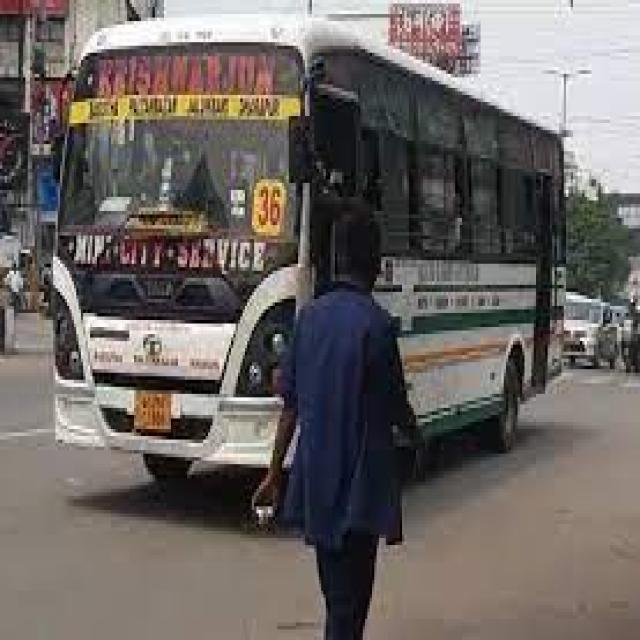Bike: (622, 290, 637, 389)
Bus: (48, 22, 558, 460)
Car: (566, 288, 628, 377)
